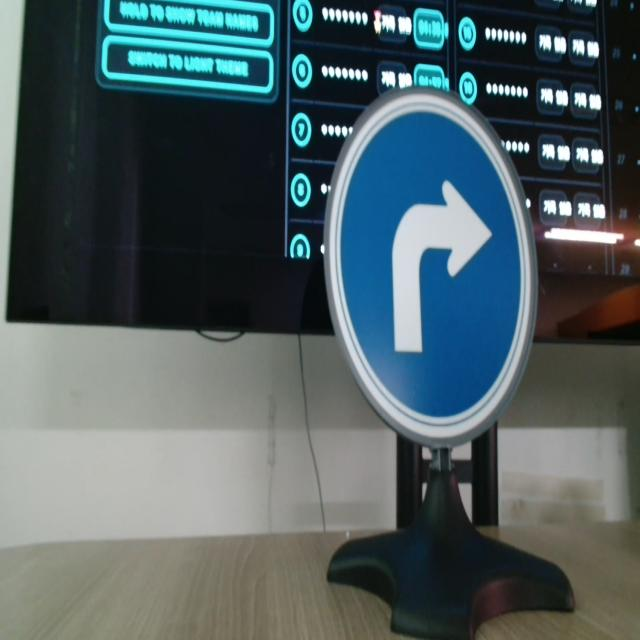right_dierection: (316, 82, 540, 456)
